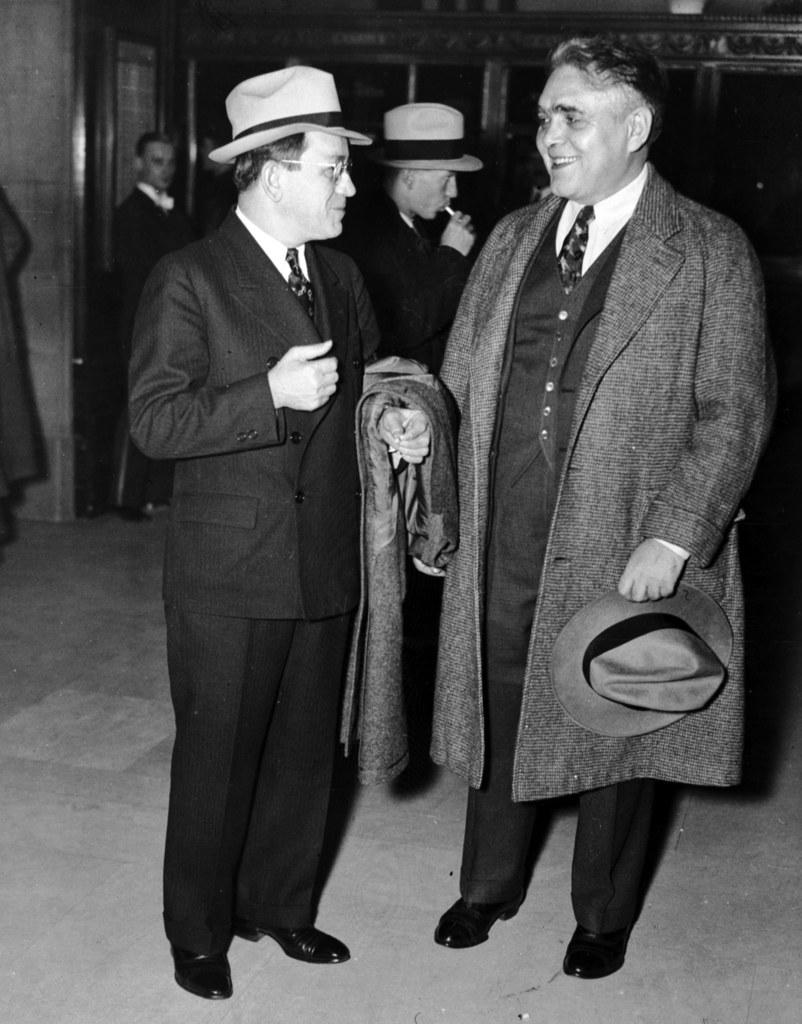Hat: (206, 68, 376, 168), (374, 100, 484, 172)
